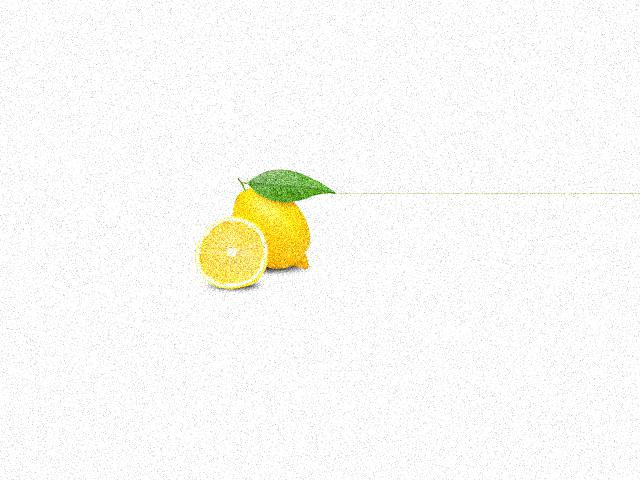lemon: (224, 176, 321, 282)
